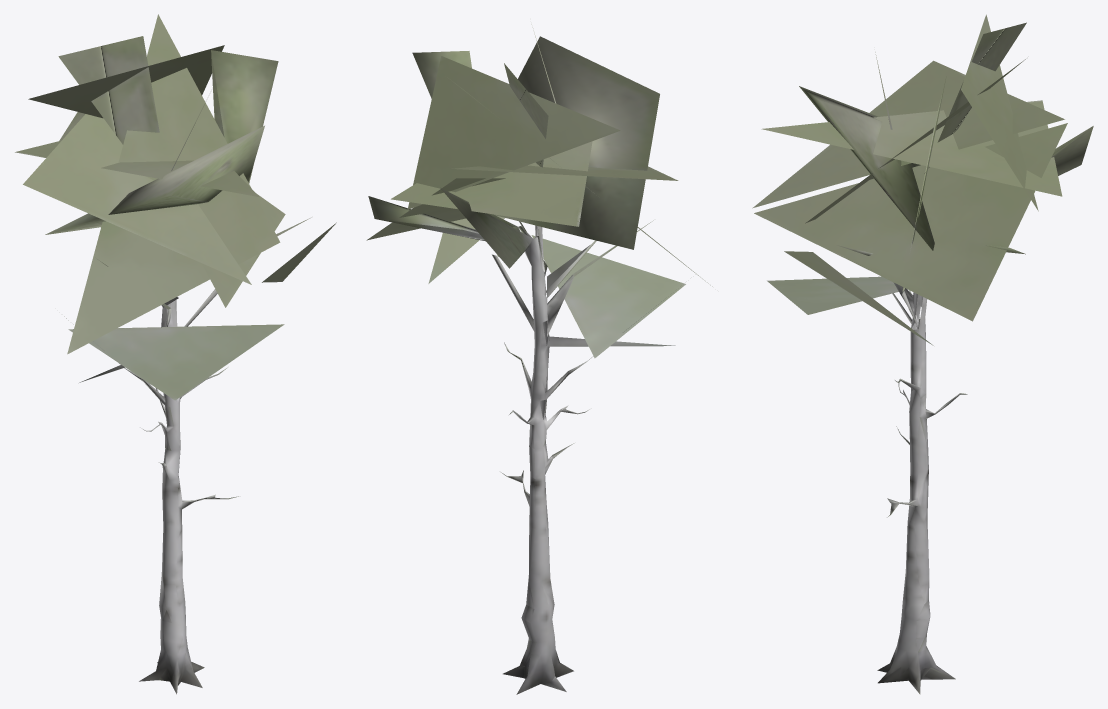
File: tree-birch-01.glb
The picture shows the model from 3 angles, left to right: view 1: azimuth 30°, elevation 25°; view 2: azimuth 150°, elevation 25°; view 3: azimuth 270°, elevation 25°; orthographic projection. The views are drawn at different scales.
Size of the model in its own units: 0.4565 by 0.9297 by 0.4453.
1 material, 1 textured.
